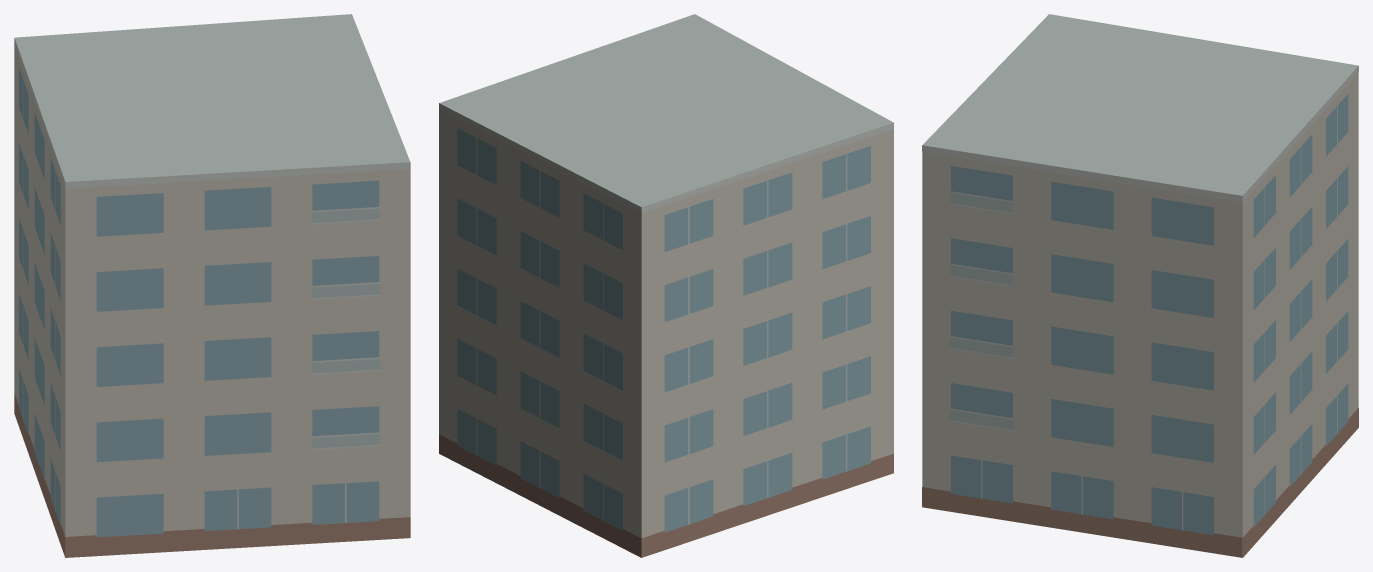
The model's file is survey-upis-32883505.glb.
3 views of the same model, side by side, from view 1: azimuth 30°, elevation 25°; view 2: azimuth 150°, elevation 25°; view 3: azimuth 270°, elevation 25° (orthographic). The views are drawn at different scales.
Visible parts, largest first — view 1: survey-upis-32883505.tmp; view 2: survey-upis-32883505.tmp; view 3: survey-upis-32883505.tmp.
Boxes of the visible parts, left/top/right/bottom form: survey-upis-32883505.tmp: left=14, top=14, right=410, bottom=557; survey-upis-32883505.tmp: left=439, top=14, right=893, bottom=557; survey-upis-32883505.tmp: left=922, top=14, right=1358, bottom=557.
Bounding box in the file's own units: 14.5 × 13.45 × 14.71.
